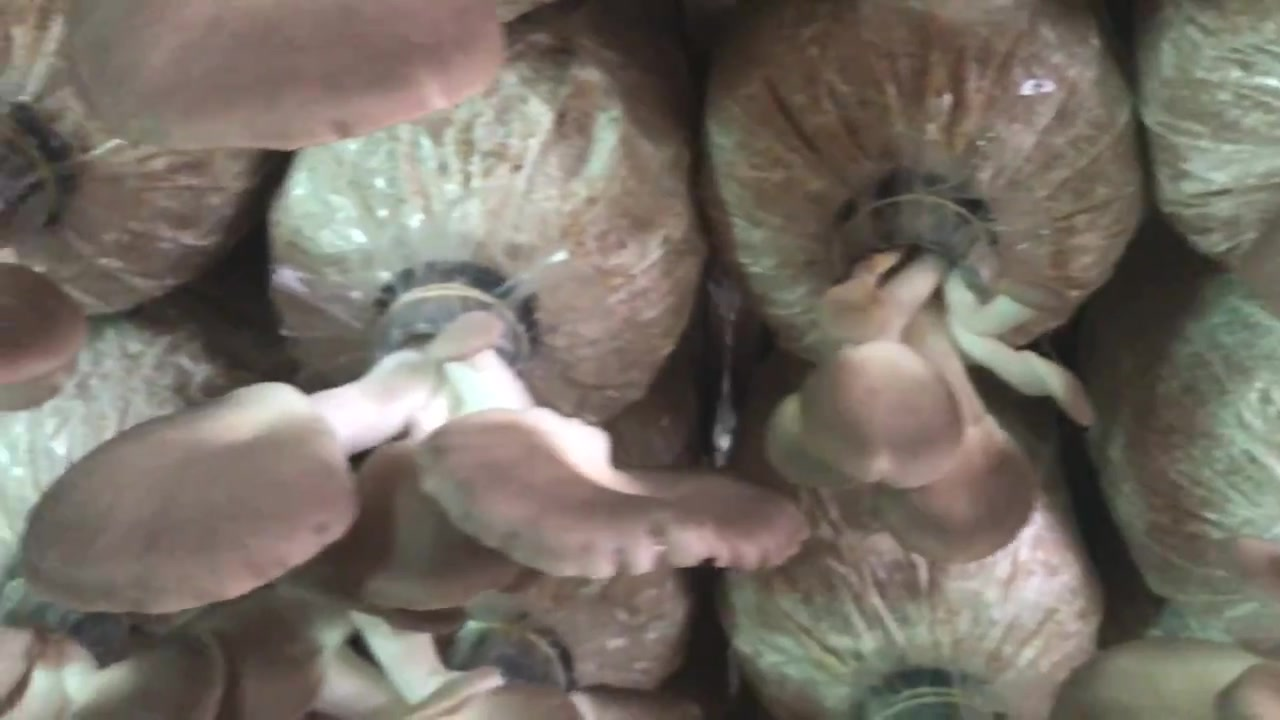nam: (11, 263, 813, 618), (763, 184, 1098, 570), (64, 3, 511, 152)
